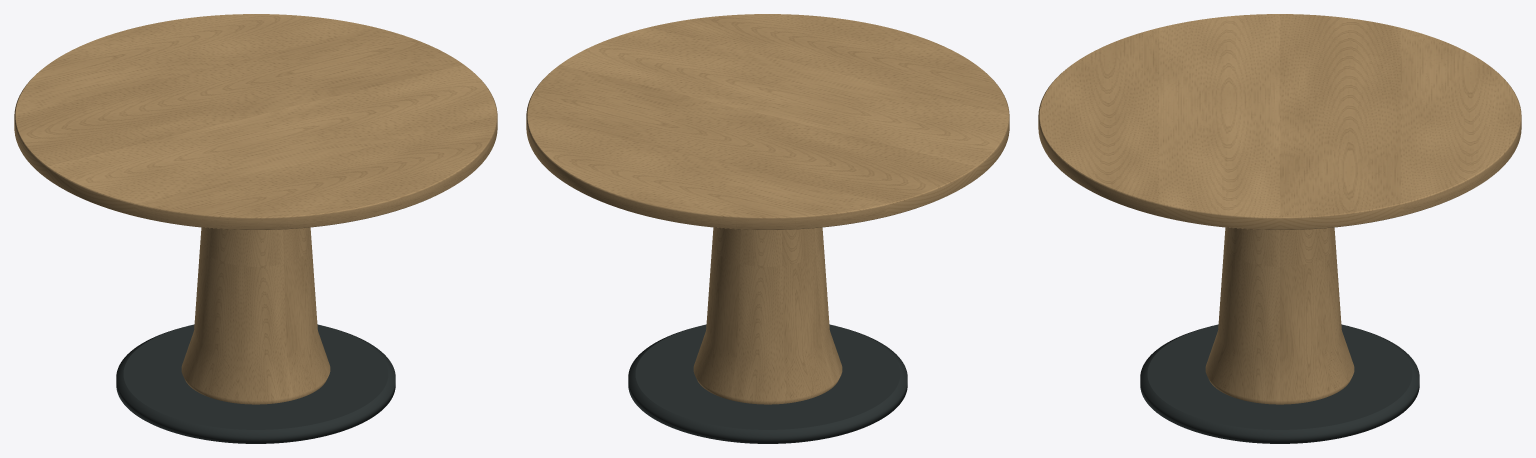
3 views of the same model, side by side, from view 1: azimuth 30°, elevation 25°; view 2: azimuth 150°, elevation 25°; view 3: azimuth 270°, elevation 25° (orthographic).
Visible parts, largest first — view 1: Solid oak circular dining top, Sculpted tapered oak column, Weighted circular plinth; view 2: Solid oak circular dining top, Sculpted tapered oak column, Weighted circular plinth; view 3: Solid oak circular dining top, Sculpted tapered oak column, Weighted circular plinth.
Boxes of the visible parts, x1,y1,x2,y2 form: Solid oak circular dining top: (14, 14, 497, 229); Sculpted tapered oak column: (181, 227, 330, 404); Weighted circular plinth: (116, 324, 395, 443); Solid oak circular dining top: (526, 14, 1009, 229); Sculpted tapered oak column: (693, 227, 842, 404); Weighted circular plinth: (628, 324, 907, 443); Solid oak circular dining top: (1038, 14, 1521, 229); Sculpted tapered oak column: (1205, 227, 1354, 404); Weighted circular plinth: (1140, 324, 1419, 443).
Bounding box in the file's own units: 1.2 × 0.75 × 1.2.
6 materials, 2 textured.
